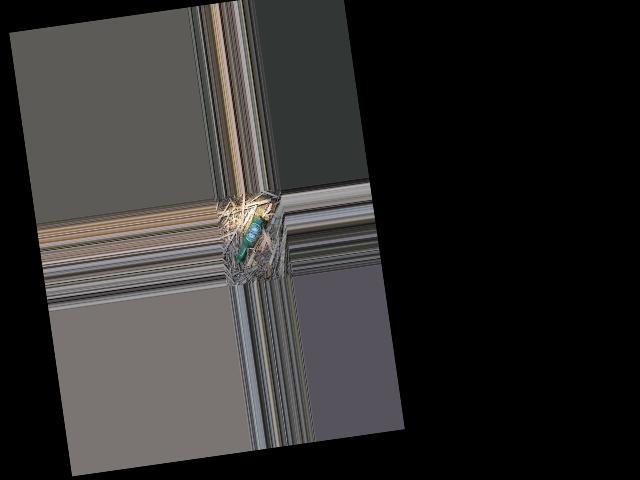beer: (231, 213, 272, 263)
